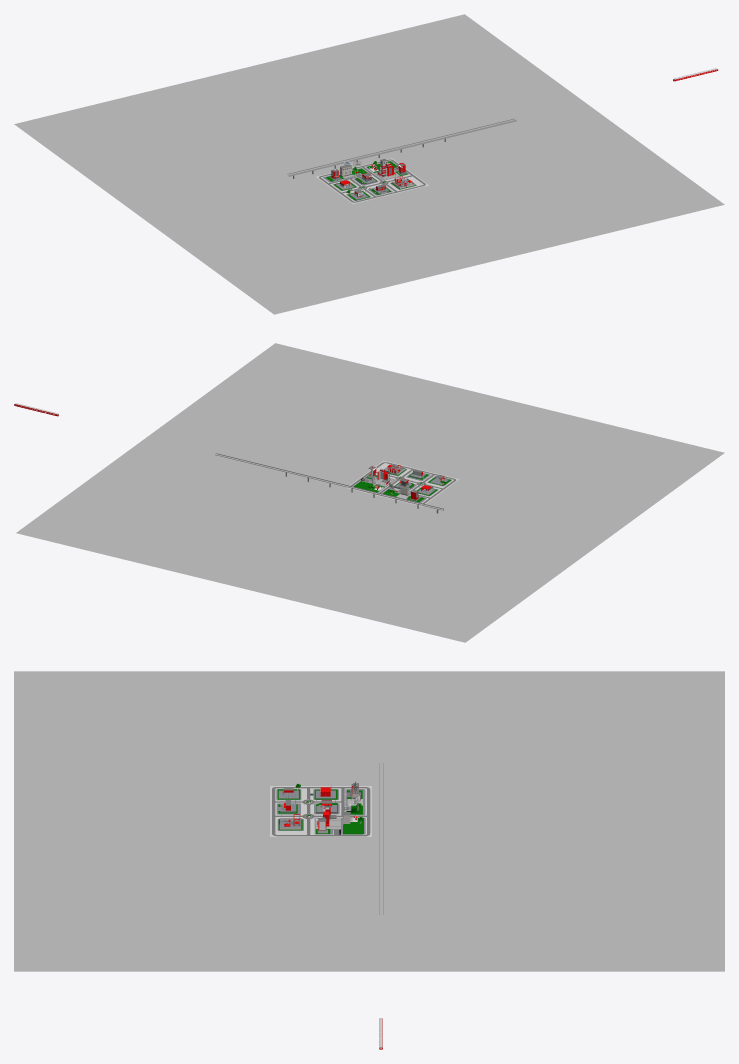
File: all_services#1.glb
3 views of the same model, one above another, from view 1: azimuth 30°, elevation 25°; view 2: azimuth 150°, elevation 25°; view 3: azimuth 270°, elevation 25° (orthographic). The views are drawn at different scales.
Visible parts, largest first — view 1: Ground1, train_track, road; view 2: Ground1, train_track, road; view 3: Ground1, road, train_track.
Boxes of the visible parts, <box> form: Ground1: <box>14,14,724,314</box>; train_track: <box>287,118,516,176</box>; road: <box>319,159,425,202</box>; Ground1: <box>16,343,724,642</box>; train_track: <box>215,453,443,510</box>; road: <box>351,462,456,504</box>; Ground1: <box>14,671,724,971</box>; road: <box>272,787,370,836</box>; train_track: <box>379,762,383,914</box>.
Size of the model in its own units: 155 by 3.71 by 120.
Materials: 53 (18 with a texture image).
